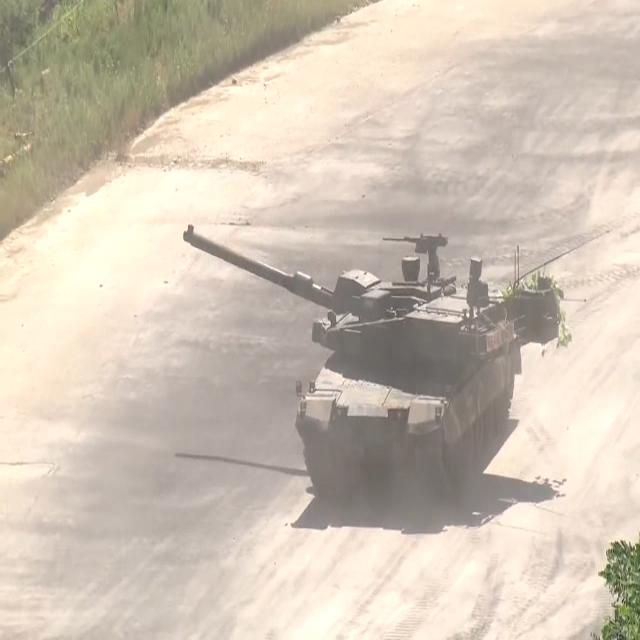korea tank: (182, 223, 564, 507)
